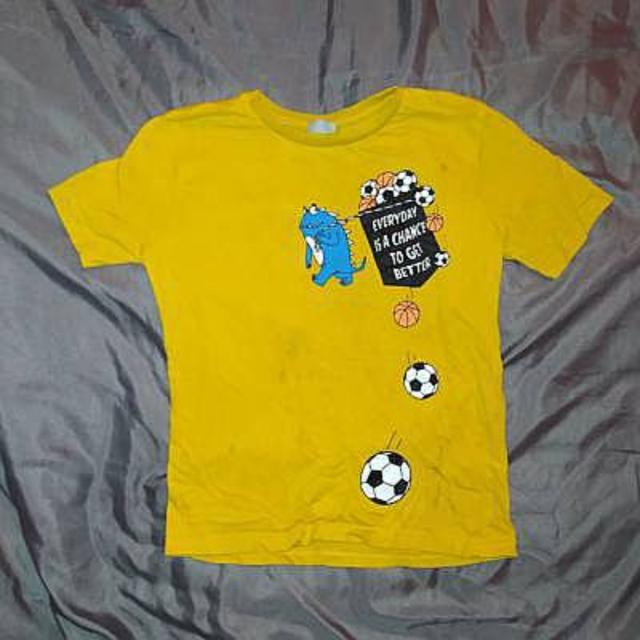T_SHIRT: (39, 74, 605, 581)
